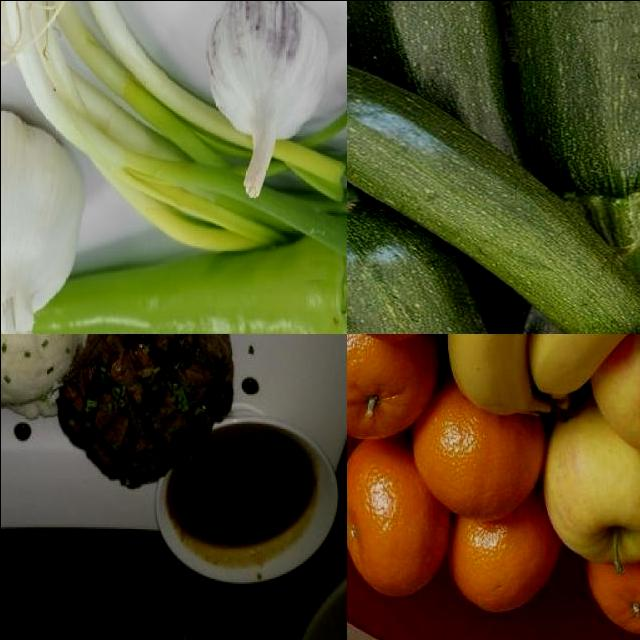garlic: (207, 1, 326, 192), (1, 103, 76, 334)
zucchini: (467, 1, 640, 209)
